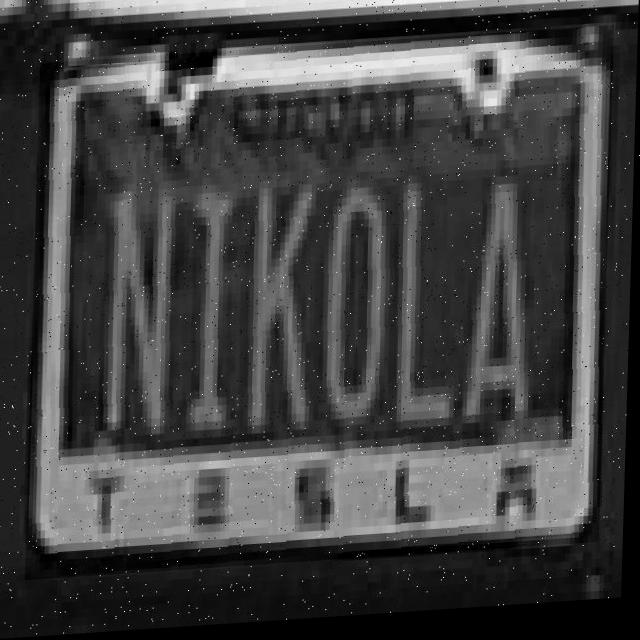LicensePlate: (28, 34, 614, 581)
